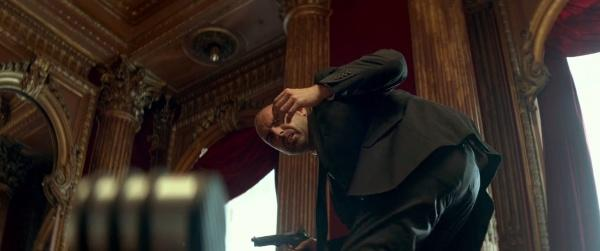Gun: (250, 229, 309, 250)
